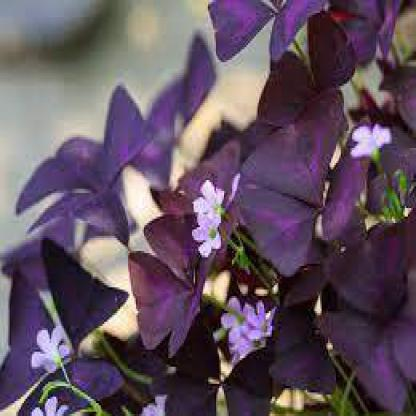Kupu-Kupu: (3, 250, 136, 415), (246, 125, 383, 282), (36, 110, 139, 239), (140, 216, 214, 336)
